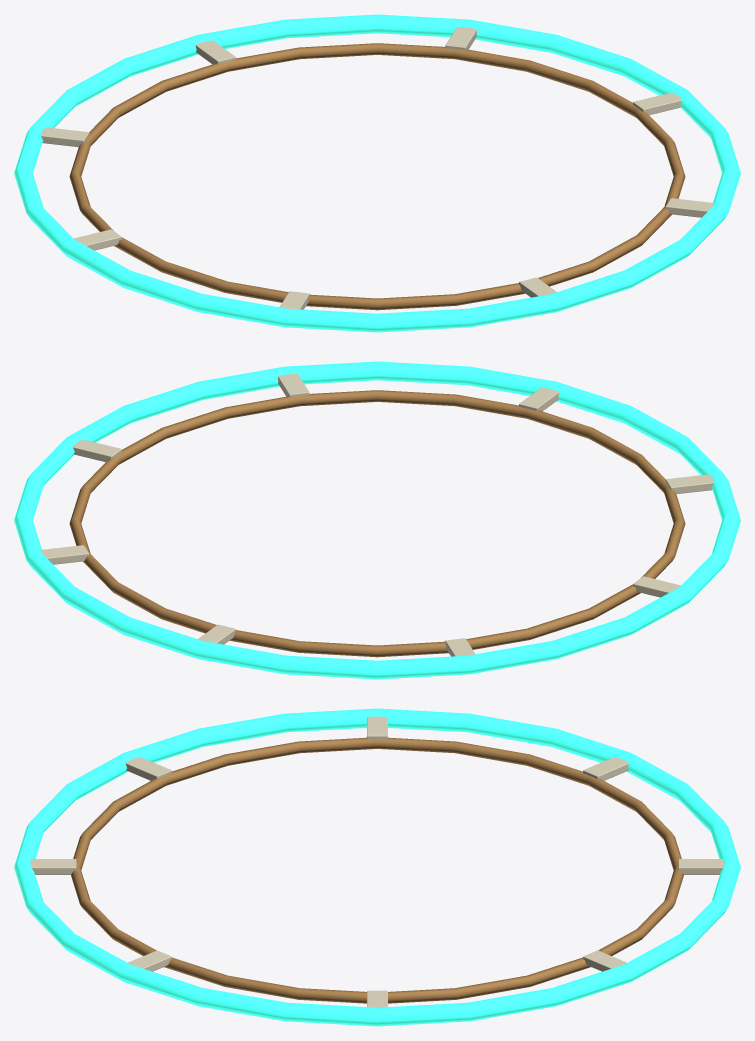
Rendered from sunfall-rift-moba-target-rune-026088c6__22002.glb.
3 views of the same model, one above another, from view 1: azimuth 30°, elevation 25°; view 2: azimuth 150°, elevation 25°; view 3: azimuth 270°, elevation 25° (orthographic).
Parts seen in each view (by area): view 1: target-rune; view 2: target-rune; view 3: target-rune.
Boxes of the visible parts, x1,y1,x2,y2 form: target-rune: (14, 14, 740, 332); target-rune: (14, 361, 740, 679); target-rune: (14, 708, 740, 1026).
Bounding box in the file's own units: 3.08 × 0.0713 × 3.08.
